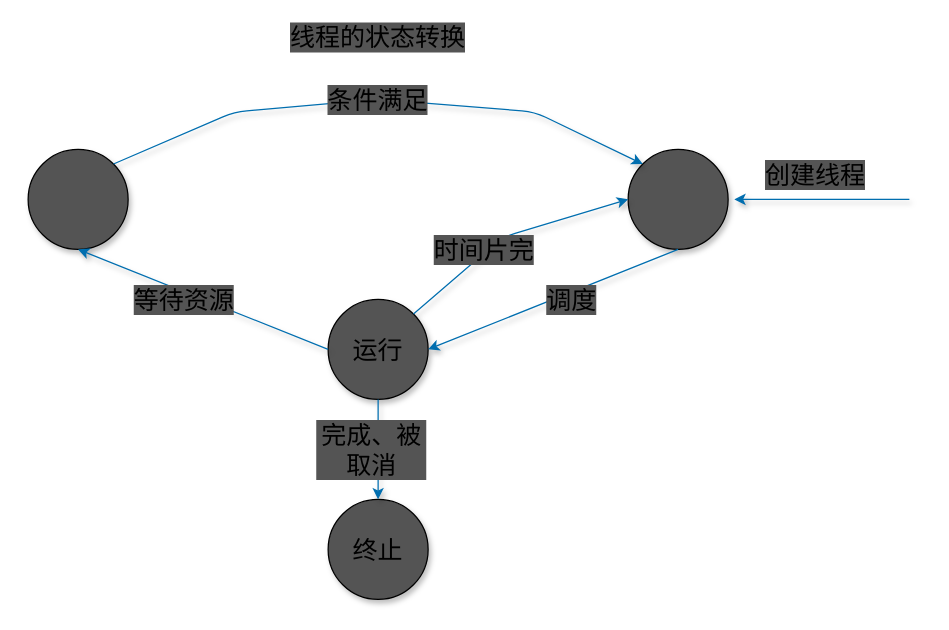
The diagram is 949 pixels wide and 630 high, and some of its shapes have lost their labels. The centre of each missing label's shape, as x and y in pixels:
就绪: (679,200)
阻塞: (79,200)
